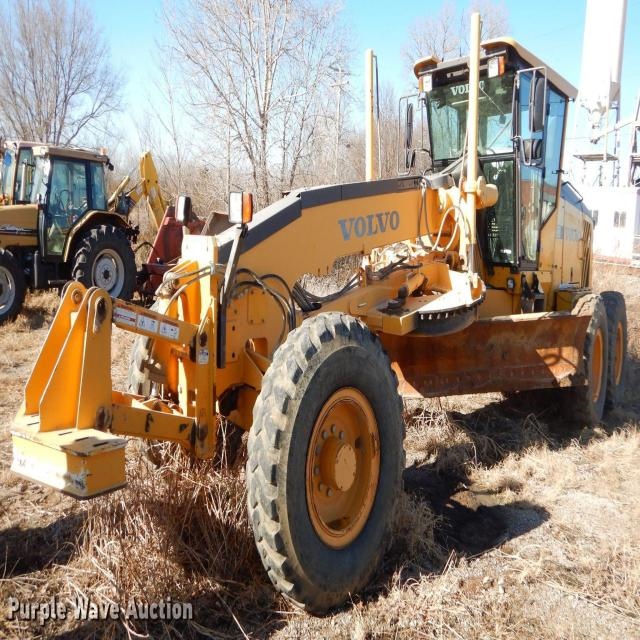Grader: (52, 36, 640, 613)
